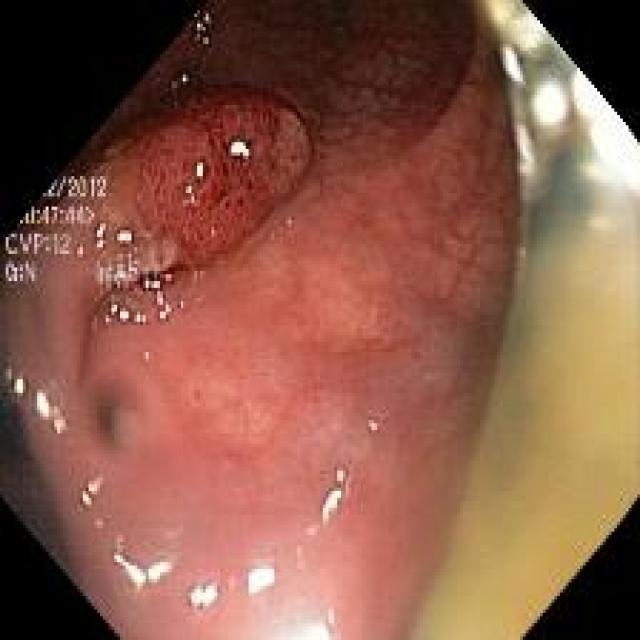Polyps: (121, 86, 311, 275)
